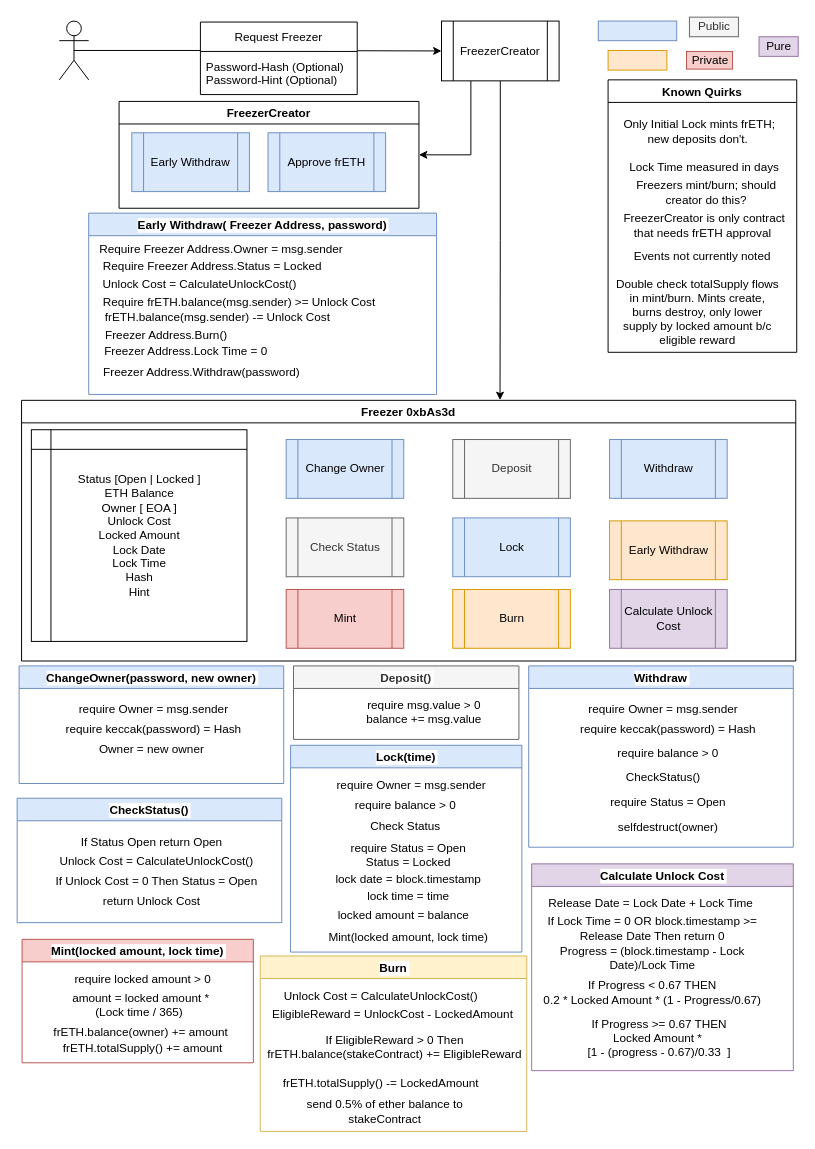
The diagram is 815 pixels wide and 1149 high, and some of its shapes have lost their labels. The shapes that lost their labels are listed below. From the top down, each one's centre as x and y in pixels, then its label:
At pixel 73 50: "EOA".
At pixel 637 30: "OnlyOwner".
At pixel 637 59: "Internal".
